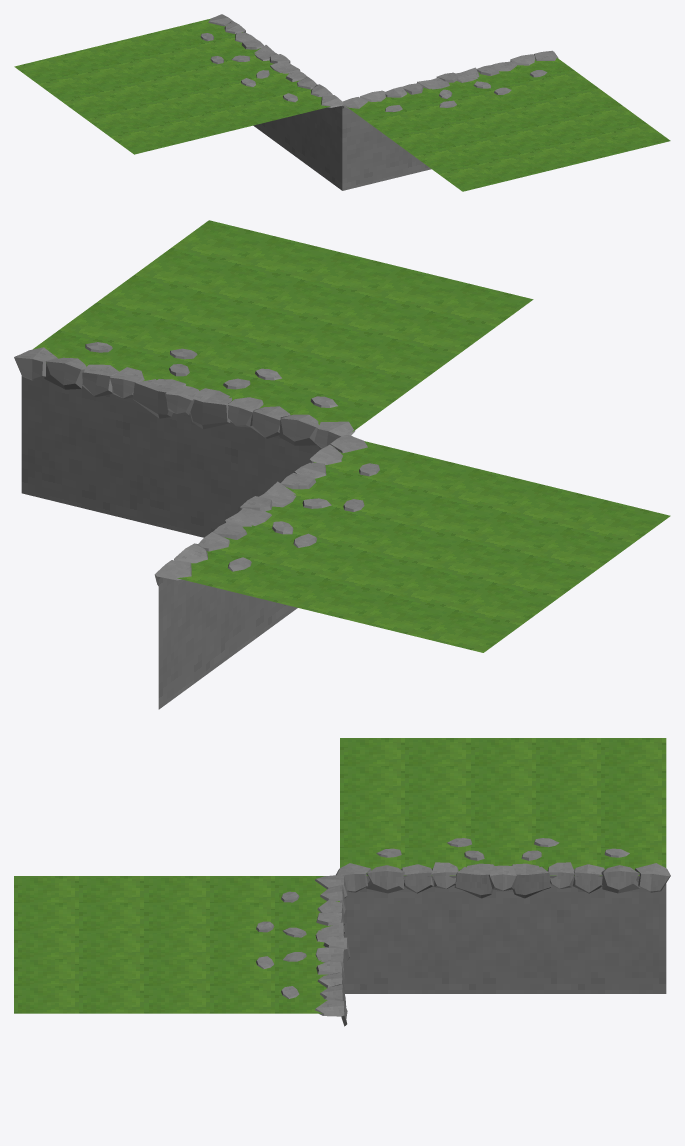
Rendered from TileCliffGrassConcave.fbx.
3 renders of one model, top to bottom at view 1: azimuth 30°, elevation 25°; view 2: azimuth 150°, elevation 25°; view 3: azimuth 270°, elevation 25°, orthographic. The views are drawn at different scales.
Visible parts, largest first — view 1: grass_cliff_concave; view 2: grass_cliff_concave; view 3: grass_cliff_concave.
Boxes of the visible parts, x1,y1,x2,y2 form: grass_cliff_concave: [14, 14, 670, 191]; grass_cliff_concave: [14, 220, 670, 709]; grass_cliff_concave: [14, 738, 670, 1026].
Size of the model in its own units: 10.1 by 2.09 by 10.07.
